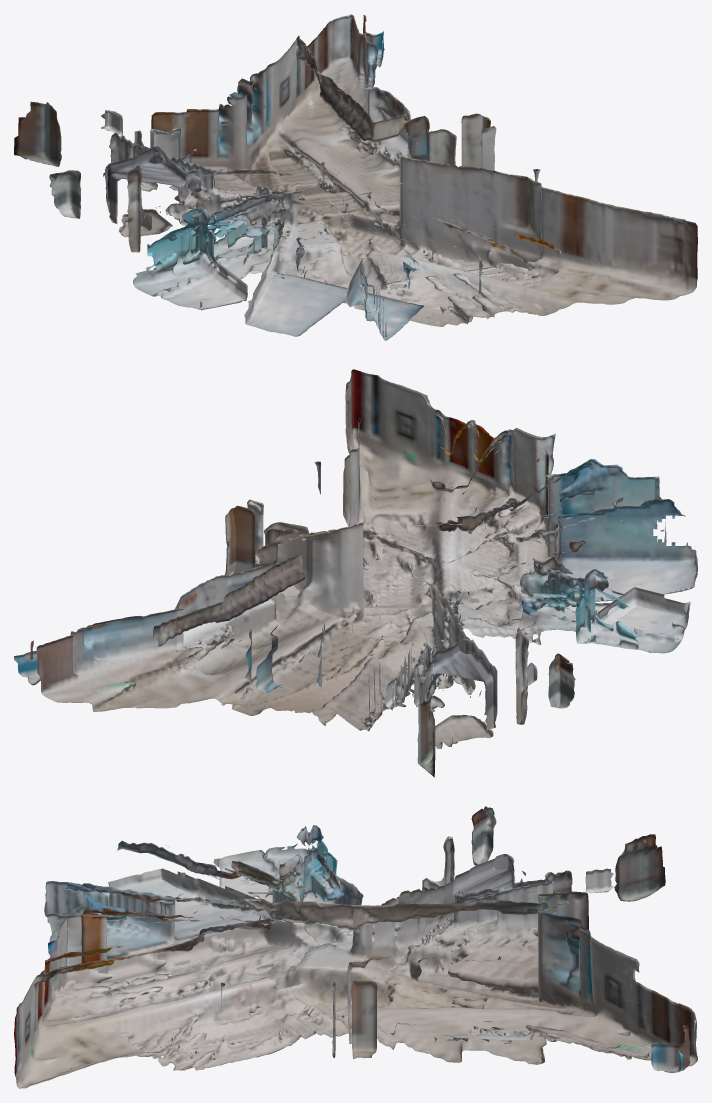
File: collider.glb
The picture shows the model from 3 angles, top to bottom: view 1: azimuth 30°, elevation 25°; view 2: azimuth 150°, elevation 25°; view 3: azimuth 270°, elevation 25°; orthographic projection. The views are drawn at different scales.
Visible parts, largest first — view 1: world; view 2: world; view 3: world.
Part boxes in pixels (<box>): world: <box>14,14,697,340</box>; world: <box>14,369,697,777</box>; world: <box>14,806,697,1088</box>.
Bounding box in the file's own units: 10.58 × 2.27 × 13.68.
